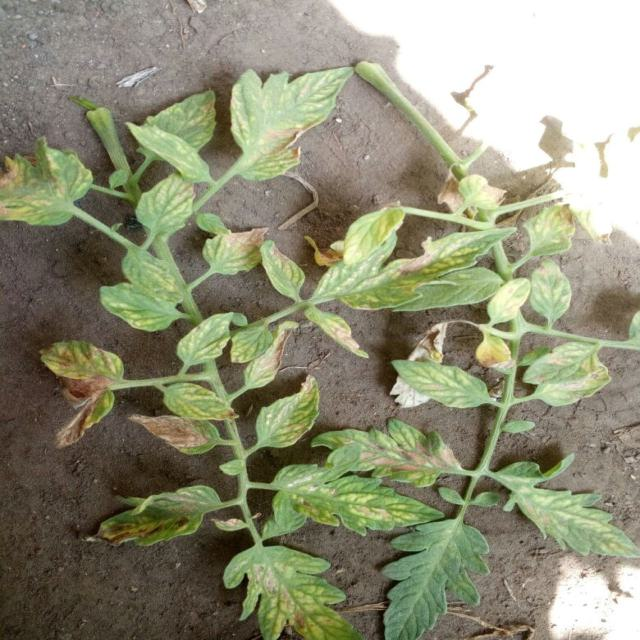Early_blight: (39, 341, 127, 448), (248, 558, 313, 639), (390, 324, 452, 408), (358, 435, 462, 477), (1, 154, 66, 221), (97, 501, 194, 544), (135, 412, 215, 457), (436, 167, 501, 218), (259, 115, 323, 160), (251, 321, 297, 381), (388, 236, 435, 281), (221, 224, 268, 259), (324, 315, 360, 360), (491, 277, 527, 319), (305, 232, 343, 269), (477, 336, 515, 372), (543, 201, 576, 236)
